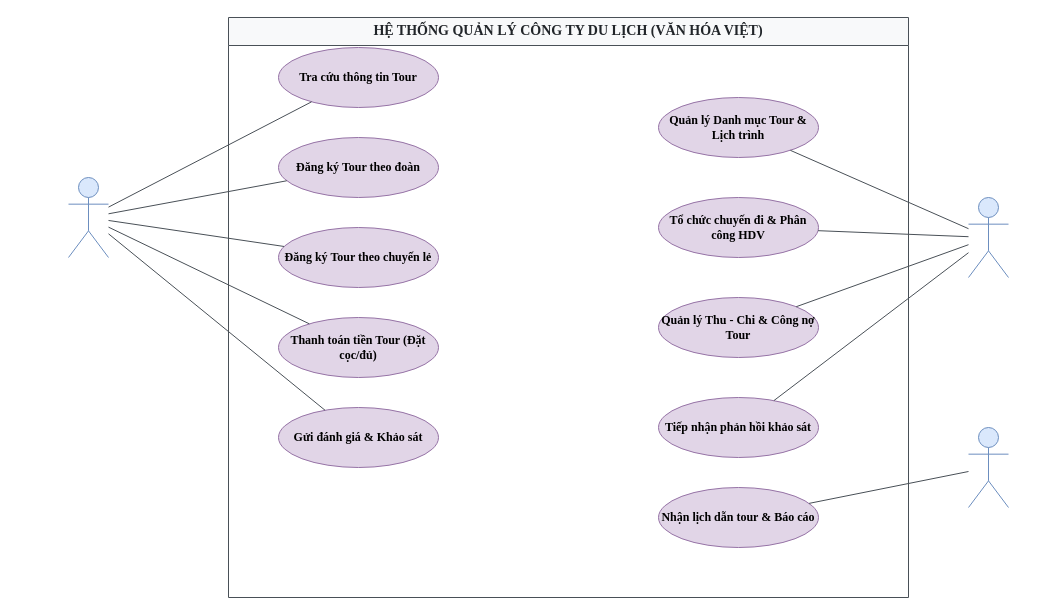
Image size: 1059x615. Some labels were removed from this diagram. Here are the shapes that lost their labels. From the top down, the box of each, then its label:
(68, 176, 108, 258): Khách hàng / Đại diện đoàn
(968, 196, 1008, 278): Nhân viên điều hành
(968, 426, 1008, 508): Hướng dẫn viên
